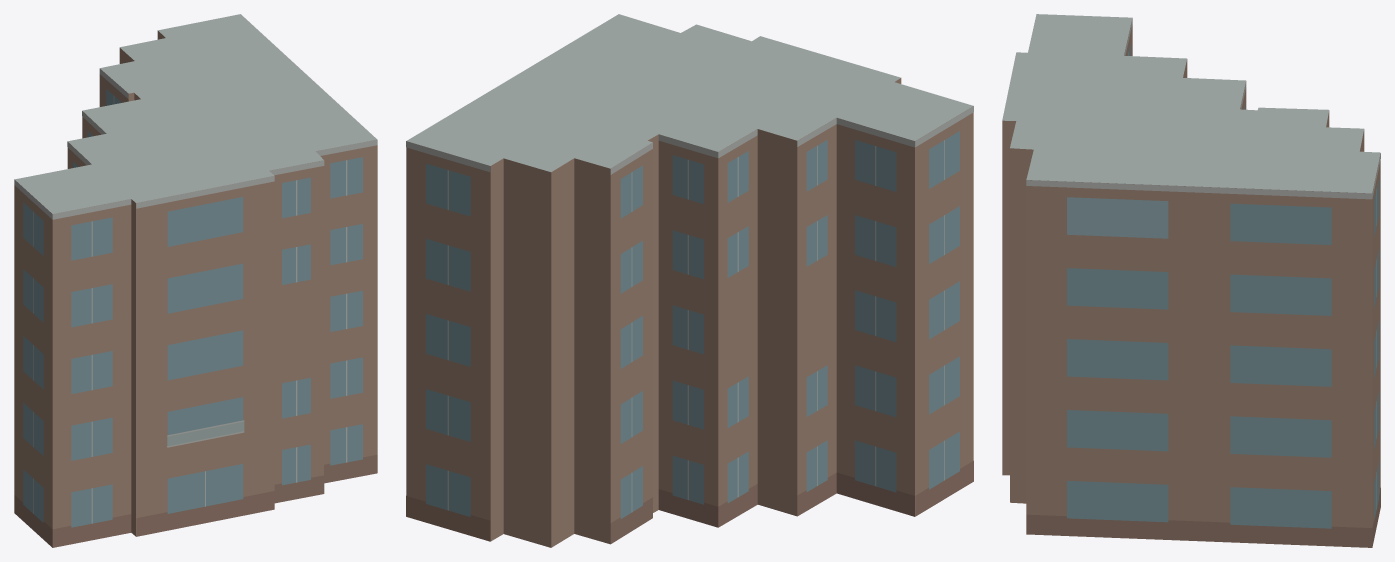
File: survey-upis-32951133.glb
3 renders of one model, left to right at view 1: azimuth 30°, elevation 25°; view 2: azimuth 150°, elevation 25°; view 3: azimuth 270°, elevation 25°, orthographic. The views are drawn at different scales.
Parts seen in each view (by area): view 1: survey-upis-32951133.tmp; view 2: survey-upis-32951133.tmp; view 3: survey-upis-32951133.tmp.
Part boxes in pixels (bbox=[...]): survey-upis-32951133.tmp: bbox=[14, 14, 377, 547]; survey-upis-32951133.tmp: bbox=[406, 14, 973, 547]; survey-upis-32951133.tmp: bbox=[1002, 14, 1380, 547].
Bounding box in the file's own units: 15.64 × 14.4 × 13.95.
